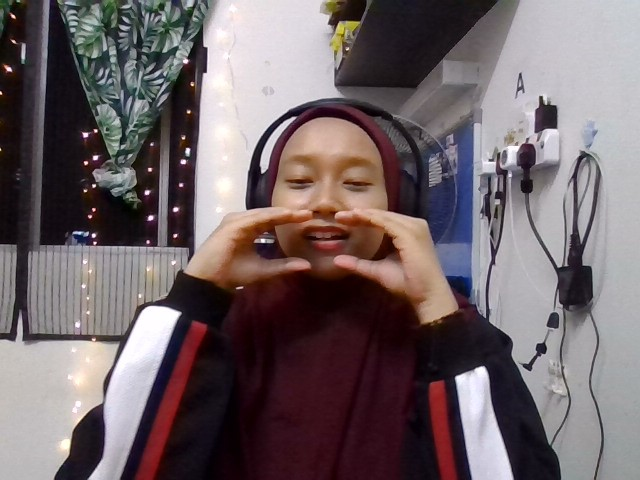Burger: (187, 205, 452, 296)
